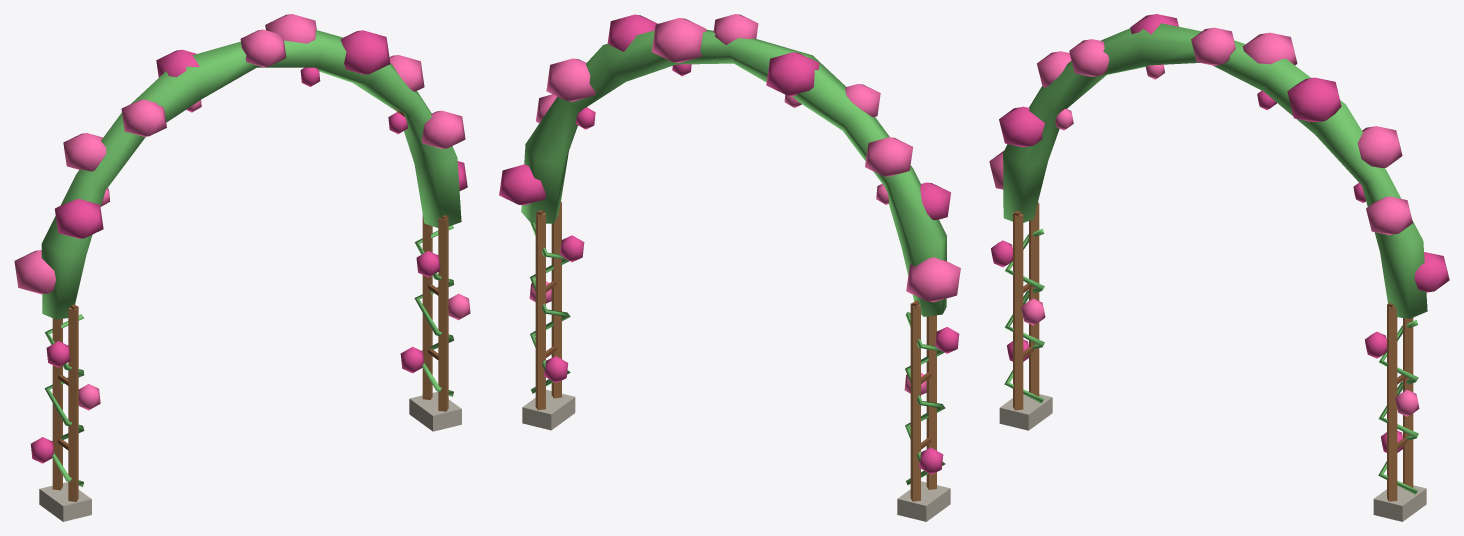
Rendered from gian-hoa.glb.
3 renders of one model, left to right at view 1: azimuth 30°, elevation 25°; view 2: azimuth 150°, elevation 25°; view 3: azimuth 330°, elevation 25°, orthographic.
Parts seen in each view (by area): view 1: gian-hoa-3, gian-hoa-5, gian-hoa-1, gian-hoa-4, gian-hoa-0; view 2: gian-hoa-3, gian-hoa-5, gian-hoa-4, gian-hoa-1, gian-hoa-0; view 3: gian-hoa-3, gian-hoa-5, gian-hoa-1, gian-hoa-4, gian-hoa-0.
Part boxes in pixels (x1,y1,x2,y2): gian-hoa-3: (41,30,461,486); gian-hoa-5: (14,14,470,410); gian-hoa-1: (52,107,448,501); gian-hoa-4: (30,30,467,463); gian-hoa-0: (39,391,461,521); gian-hoa-3: (521,30,946,485); gian-hoa-5: (529,14,960,394); gian-hoa-4: (499,14,959,474); gian-hoa-1: (535,201,936,501); gian-hoa-0: (522,390,950,521); gian-hoa-3: (1003,23,1427,494); gian-hoa-5: (989,27,1419,416); gian-hoa-1: (1013,75,1413,501); gian-hoa-4: (991,14,1449,452); gian-hoa-0: (999,391,1426,521).
Bounding box in the file's own units: 6.53 × 6.11 × 1.03.
